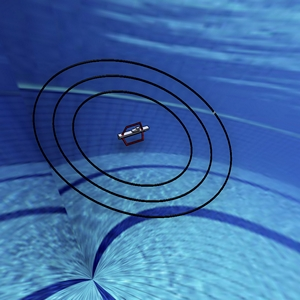circle: (14, 31, 252, 232)
submarine: (110, 114, 153, 148)
